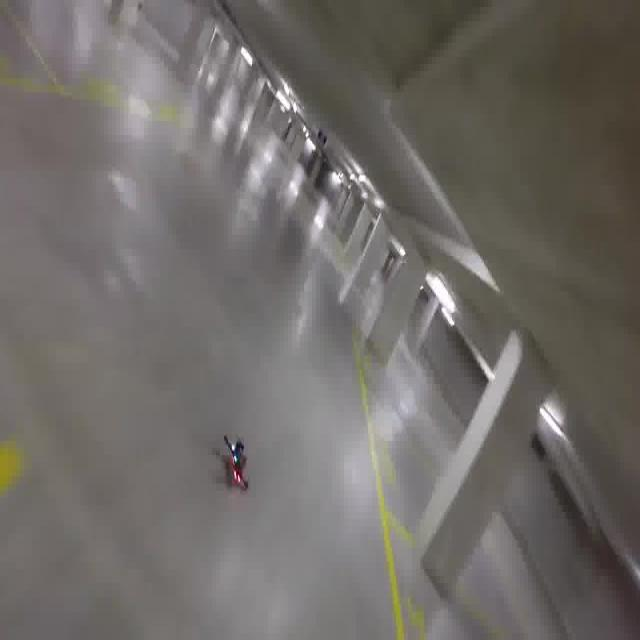drone: (205, 428, 252, 495)
